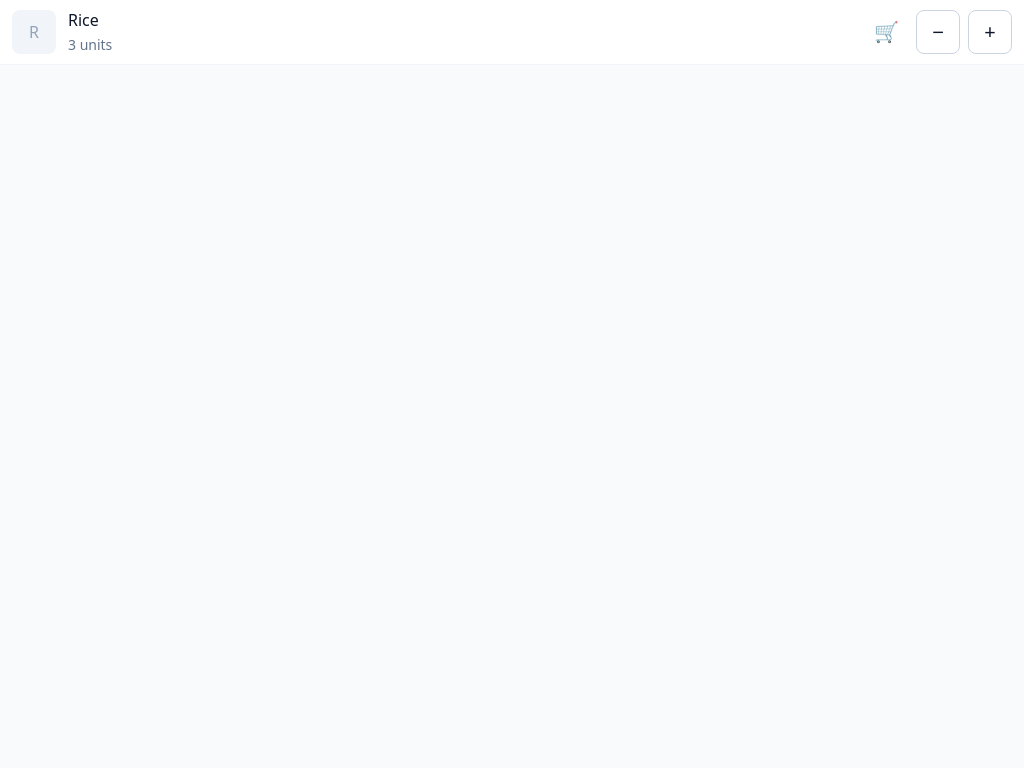
Test: ItemRow undo affordance › offers an Undo button when the mutation returns an eventId
Click the button named "Use 1 unit Rice".
click(938, 32)  # box left=916, top=10, right=960, bottom=54
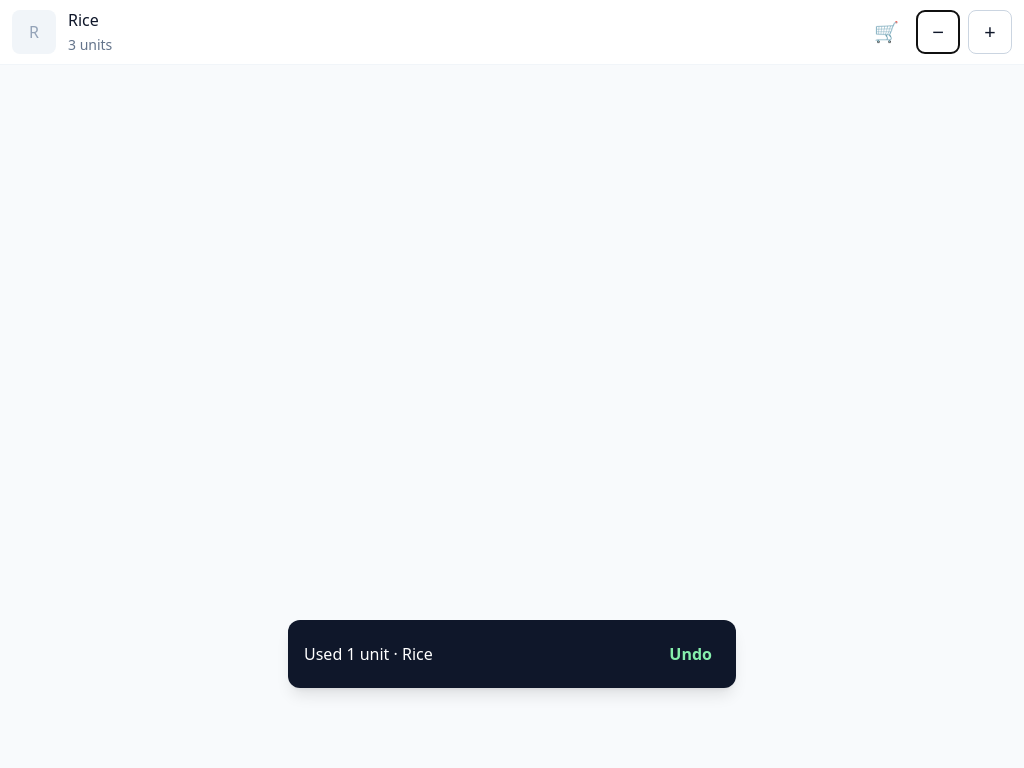
Now the text "Used 1 unit · Rice" is shown, box left=304, top=642, right=433, bottom=666
Now the button "Undo" is shown, box left=661, top=632, right=720, bottom=676
